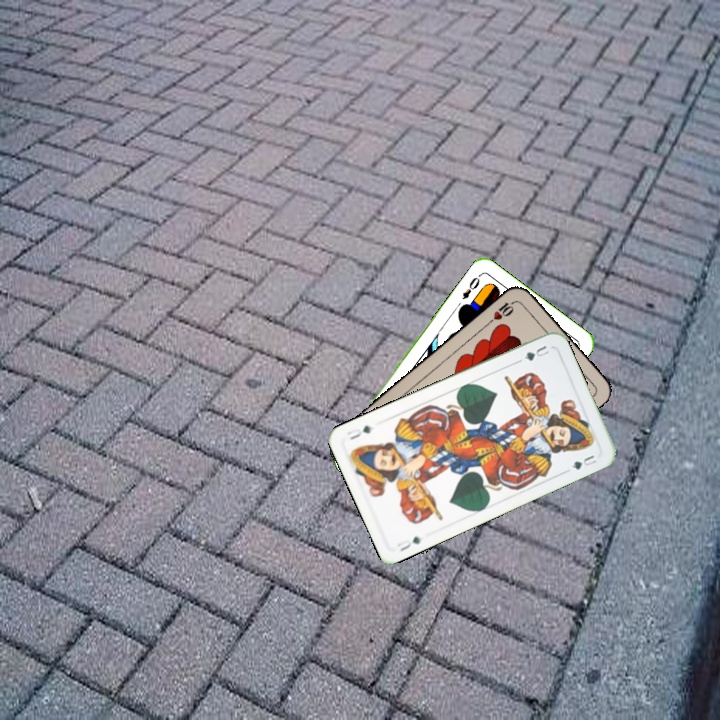EO: (458, 270, 483, 302)
GU: (520, 341, 552, 363), (393, 532, 424, 554)
H10: (485, 296, 519, 326)
